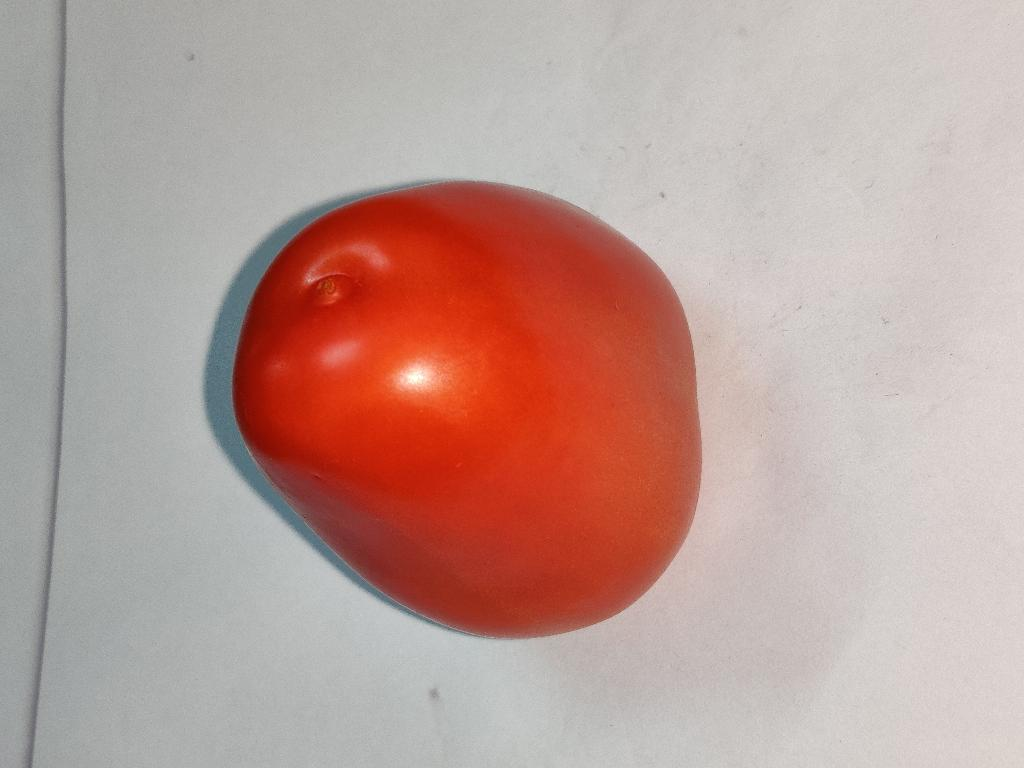tomato: (233, 182, 701, 637)
